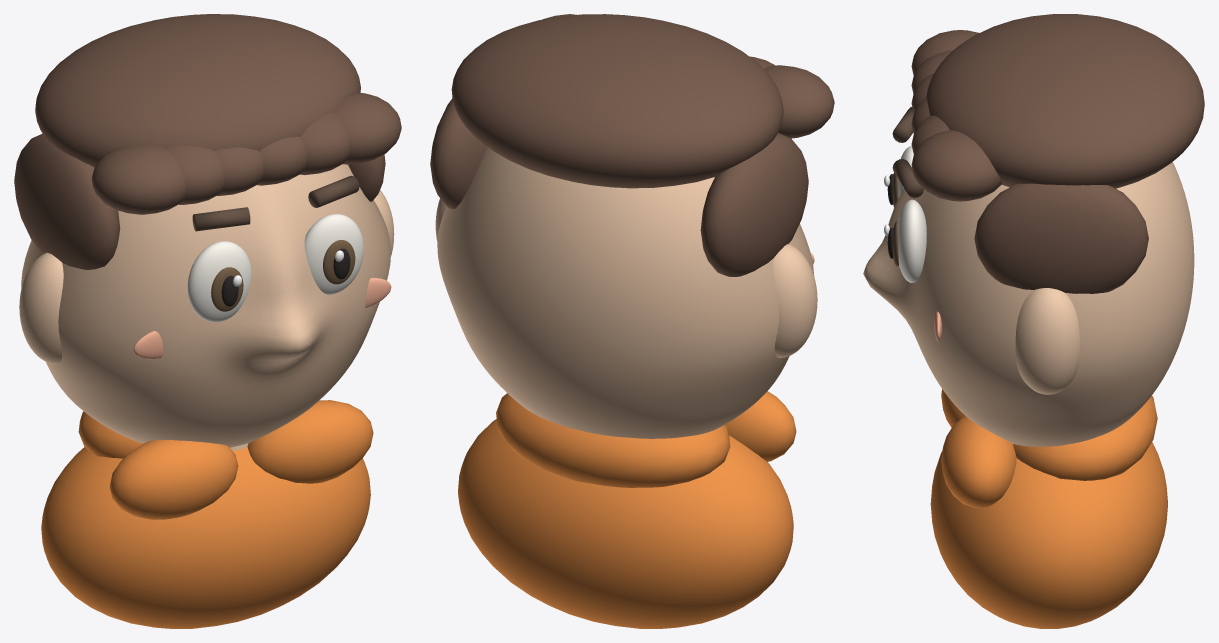
The model's file is roamlab_face_round_preview.glb.
The picture shows the model from 3 angles, left to right: view 1: azimuth 30°, elevation 25°; view 2: azimuth 150°, elevation 25°; view 3: azimuth 270°, elevation 25°; orthographic projection. The views are drawn at different scales.
Visible parts, largest first — view 1: Head_Morph_4Shapes_NoseAuto, Jacket_Bust, Hair_Top, Hair_Temple_L, Collar_L, Collar_R, Hair_Fringe_00, Ear_L, Hair_Fringe_05, EyeSclera_L, EyeSclera_R, Hair_Fringe_01 (+11 smaller); view 2: Head_Morph_4Shapes_NoseAuto, Hair_Top, Jacket_Bust, Collar_Back, Hair_Temple_L, Ear_L, Hair_Temple_R, Hair_Fringe_00, Collar_L; view 3: Head_Morph_4Shapes_NoseAuto, Hair_Top, Jacket_Bust, Hair_Temple_R, Ear_R, Collar_Back, Collar_R, Hair_Fringe_05, EyeSclera_R, Hair_Fringe_00, Brow_R, Hair_Fringe_04 (+2 smaller).
Part boxes in pixels (bbox=[...]): Head_Morph_4Shapes_NoseAuto: bbox=[21, 164, 390, 447]; Jacket_Bust: bbox=[41, 447, 370, 628]; Hair_Top: bbox=[35, 14, 360, 167]; Hair_Temple_L: bbox=[14, 133, 120, 269]; Collar_L: bbox=[109, 440, 238, 519]; Collar_R: bbox=[247, 400, 373, 483]; Hair_Fringe_00: bbox=[91, 144, 185, 214]; Ear_L: bbox=[19, 252, 63, 363]; Hair_Fringe_05: bbox=[333, 92, 401, 164]; EyeSclera_L: bbox=[187, 241, 251, 322]; EyeSclera_R: bbox=[304, 214, 363, 294]; Hair_Fringe_01: bbox=[165, 145, 224, 204]; Head_Morph_4Shapes_NoseAuto: bbox=[437, 147, 814, 438]; Hair_Top: bbox=[451, 14, 783, 188]; Jacket_Bust: bbox=[458, 419, 793, 628]; Collar_Back: bbox=[496, 393, 730, 487]; Hair_Temple_L: bbox=[700, 133, 808, 276]; Ear_L: bbox=[773, 244, 817, 357]; Hair_Temple_R: bbox=[430, 98, 487, 209]; Hair_Fringe_00: bbox=[764, 65, 834, 138]; Collar_L: bbox=[725, 391, 796, 461]; Head_Morph_4Shapes_NoseAuto: bbox=[863, 162, 1194, 446]; Hair_Top: bbox=[926, 14, 1204, 188]; Jacket_Bust: bbox=[930, 442, 1167, 628]; Hair_Temple_R: bbox=[974, 183, 1148, 293]; Ear_R: bbox=[1015, 288, 1079, 394]; Collar_Back: bbox=[1013, 395, 1157, 480]; Collar_R: bbox=[941, 416, 1016, 508]; Hair_Fringe_05: bbox=[911, 130, 1001, 201]; EyeSclera_R: bbox=[898, 199, 926, 282]; Hair_Fringe_00: bbox=[911, 30, 978, 74]; Brow_R: bbox=[892, 159, 923, 197]; Hair_Fringe_04: bbox=[911, 115, 949, 154].
Size of the model in its own units: 1.19 by 1.76 by 0.9784.
